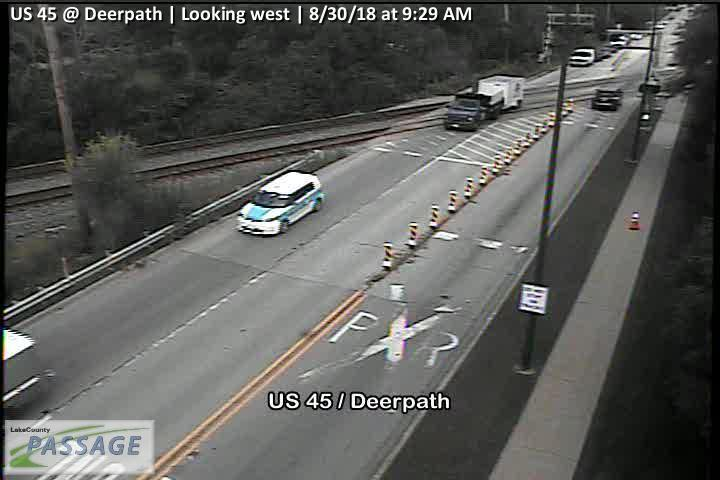SUV: (234, 170, 327, 237), (590, 85, 624, 112), (568, 47, 595, 67)
Truck: (441, 72, 526, 134)
